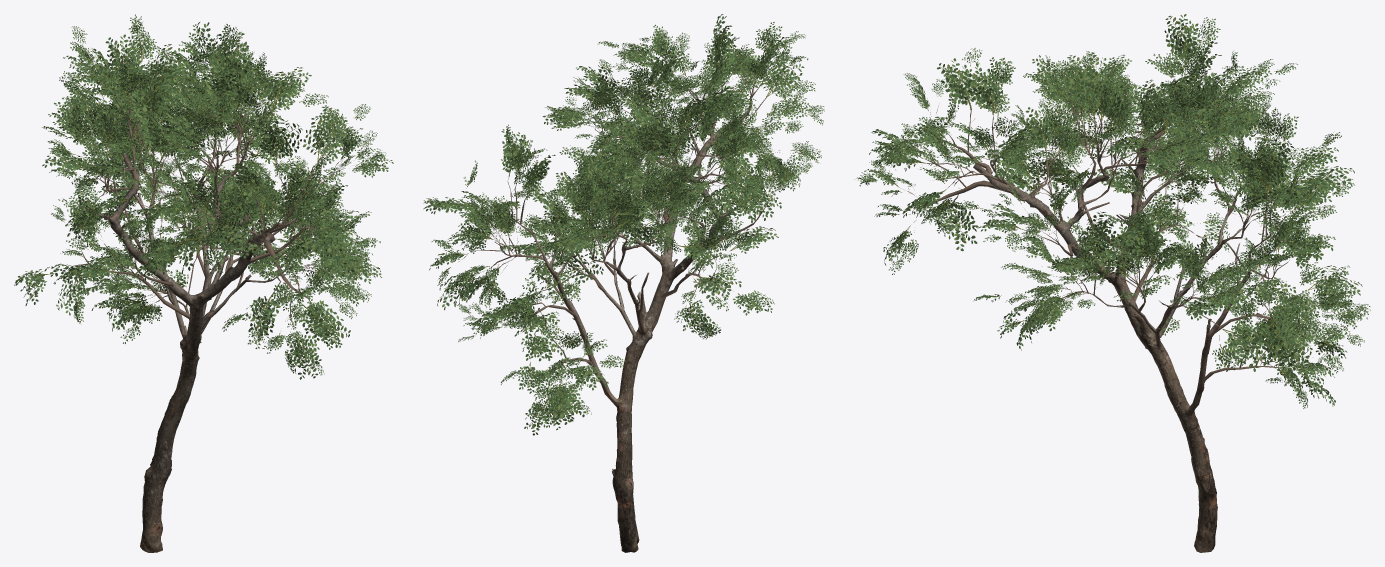
Rendered from tree_small_02.fbx.
3 views of the same model, side by side, from view 1: azimuth 30°, elevation 25°; view 2: azimuth 150°, elevation 25°; view 3: azimuth 270°, elevation 25° (orthographic). The views are drawn at different scales.
Visible parts, largest first — view 1: tree_small_02_LOD0; view 2: tree_small_02_LOD0; view 3: tree_small_02_LOD0.
Part boxes in pixels (left/top/right/bottom): tree_small_02_LOD0: left=14, top=14, right=393, bottom=552; tree_small_02_LOD0: left=423, top=14, right=824, bottom=552; tree_small_02_LOD0: left=854, top=14, right=1370, bottom=552.
Bounding box in the file's own units: 292 × 456 × 429.
